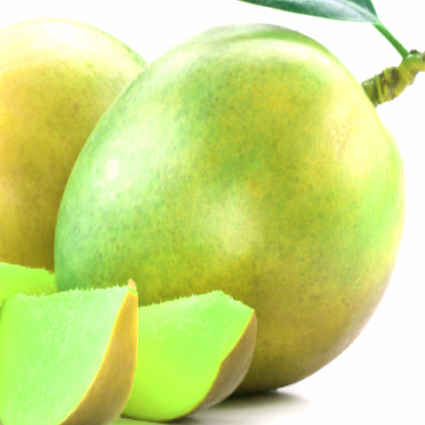mango: (34, 19, 424, 398)
